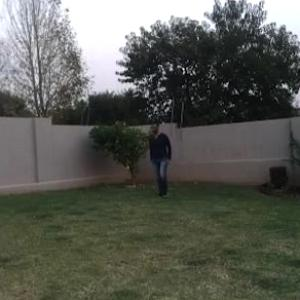follow: (148, 117, 175, 200)
